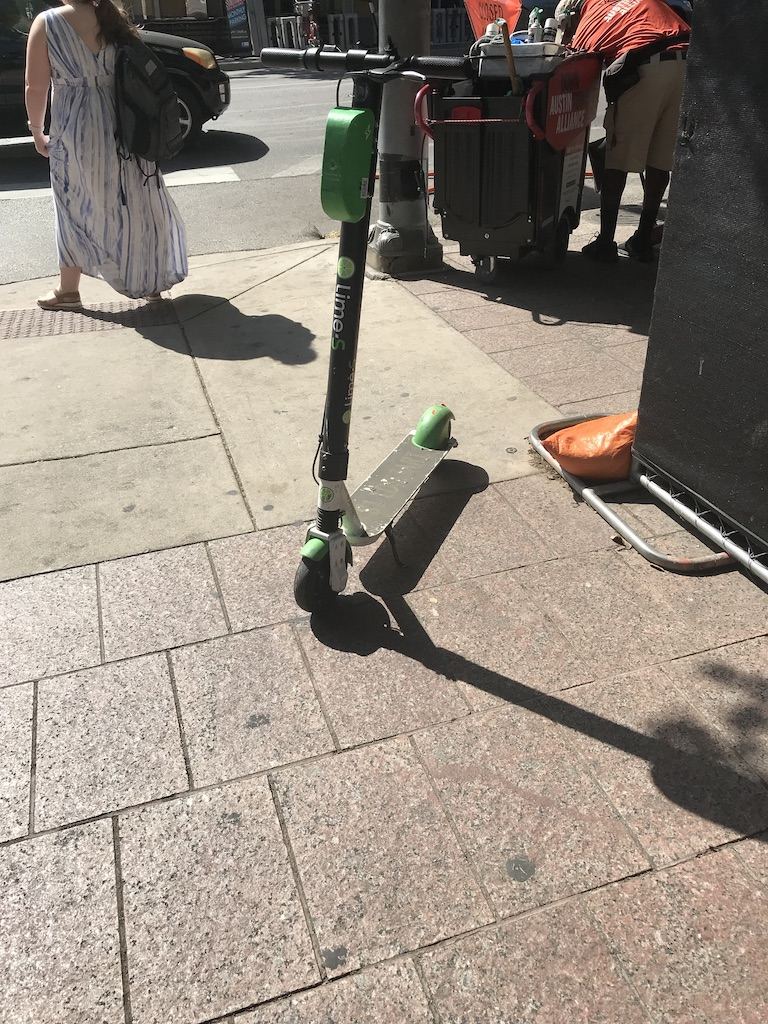scooter: (261, 49, 472, 614)
